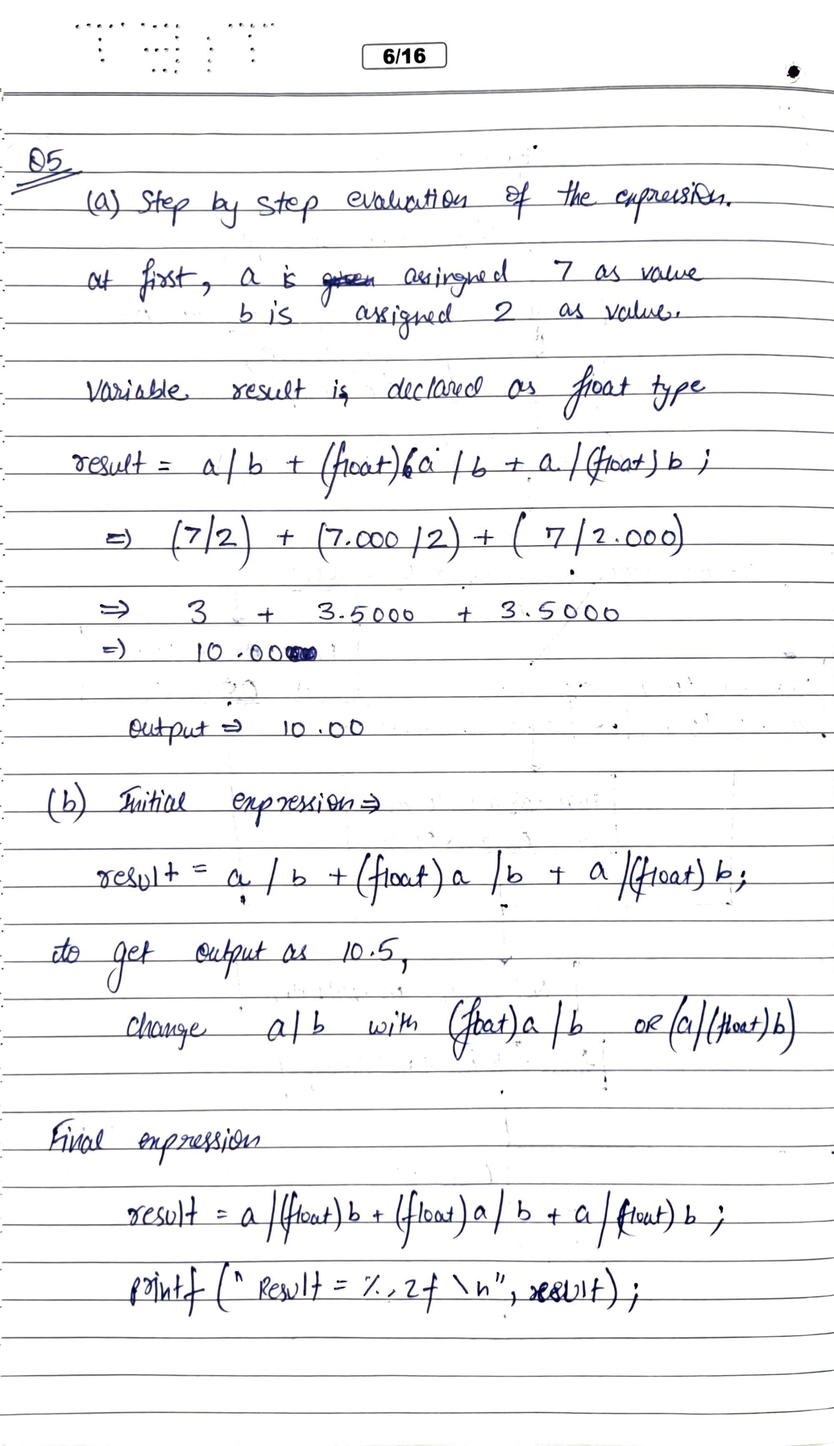cuttings: (317, 264, 379, 310), (283, 643, 319, 664), (401, 443, 419, 479)
